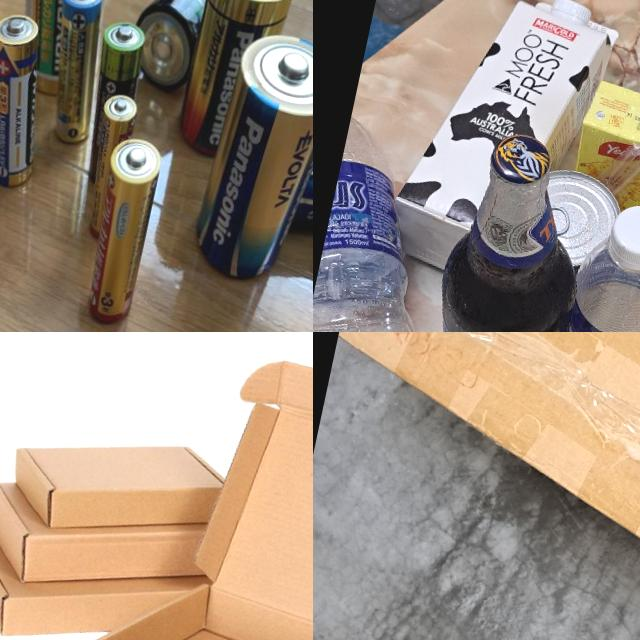aba de lata: (544, 205, 572, 238)
bateria: (179, 18, 313, 297), (170, 0, 307, 173), (77, 126, 172, 329), (69, 17, 154, 195), (0, 0, 130, 101), (120, 0, 244, 104), (34, 0, 121, 148), (0, 7, 64, 196), (75, 87, 144, 251)
caixinha: (381, 0, 622, 297), (565, 78, 640, 219)
garrafa de vidro: (413, 124, 608, 332)
garrafa plástica: (67, 332, 313, 640), (0, 401, 240, 640), (313, 114, 495, 332), (546, 230, 640, 332)
lata: (526, 165, 628, 278)
papelão: (313, 332, 640, 640)
tampa plástica: (606, 200, 640, 273), (548, 0, 592, 25)
